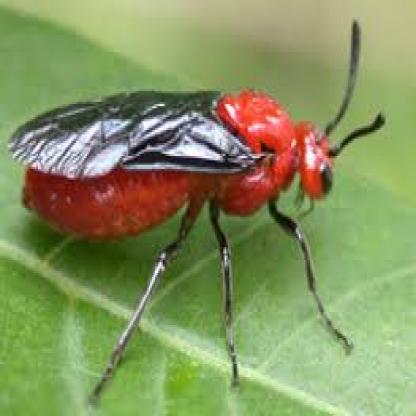sawfly: (5, 23, 380, 399)
